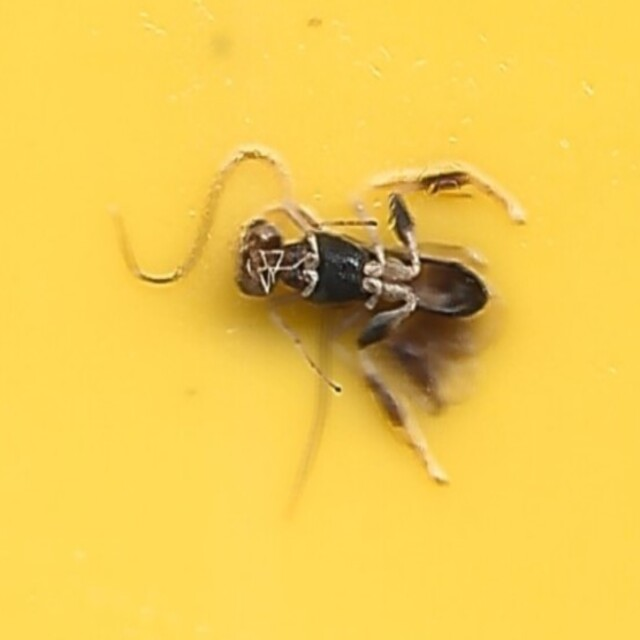Hymenoptera: (115, 148, 525, 492)
